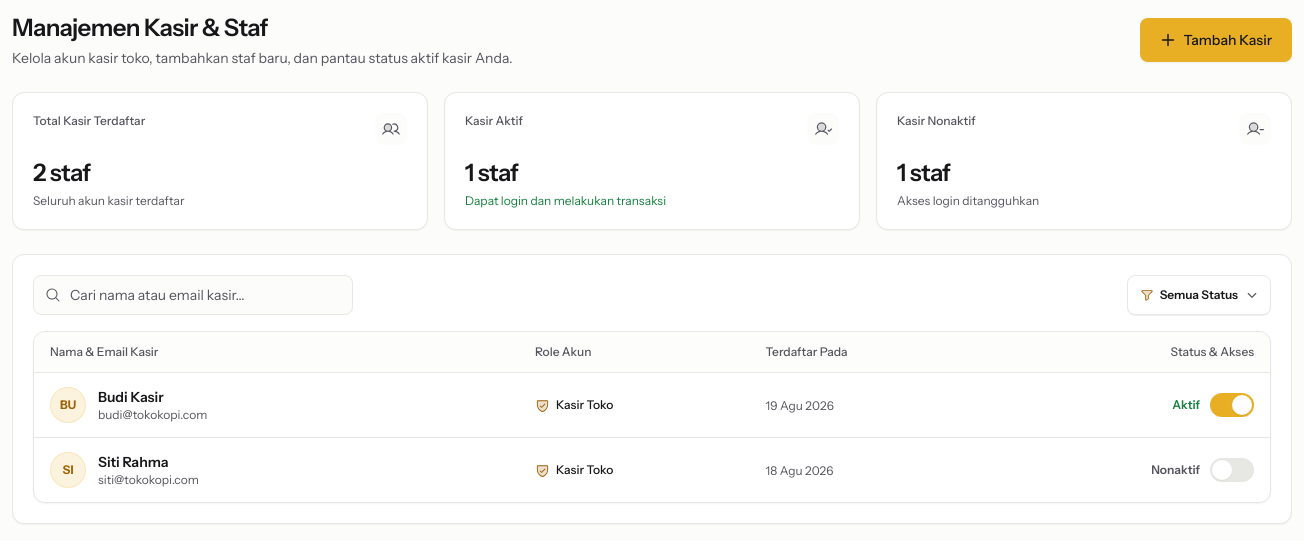
Test case: StaffView › filters cashiers by search query
Type "Siti" into the field with placeholder "Cari nama atau email kasir…".
click(193, 295); type("Siti")  # box [33, 275, 353, 315]
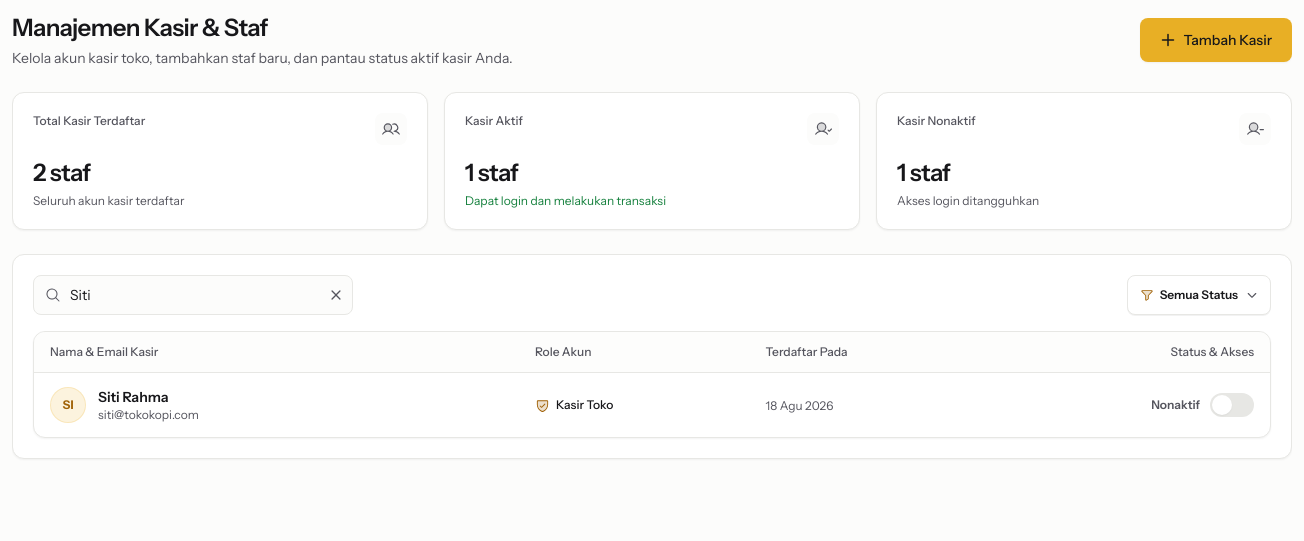
Check: the text "Siti Rahma" is shown, box [98, 388, 169, 406]
Check: the text "Budi Kasir" is gone
